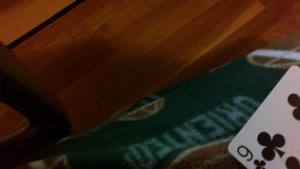NineOfClubs: (226, 62, 300, 168)
